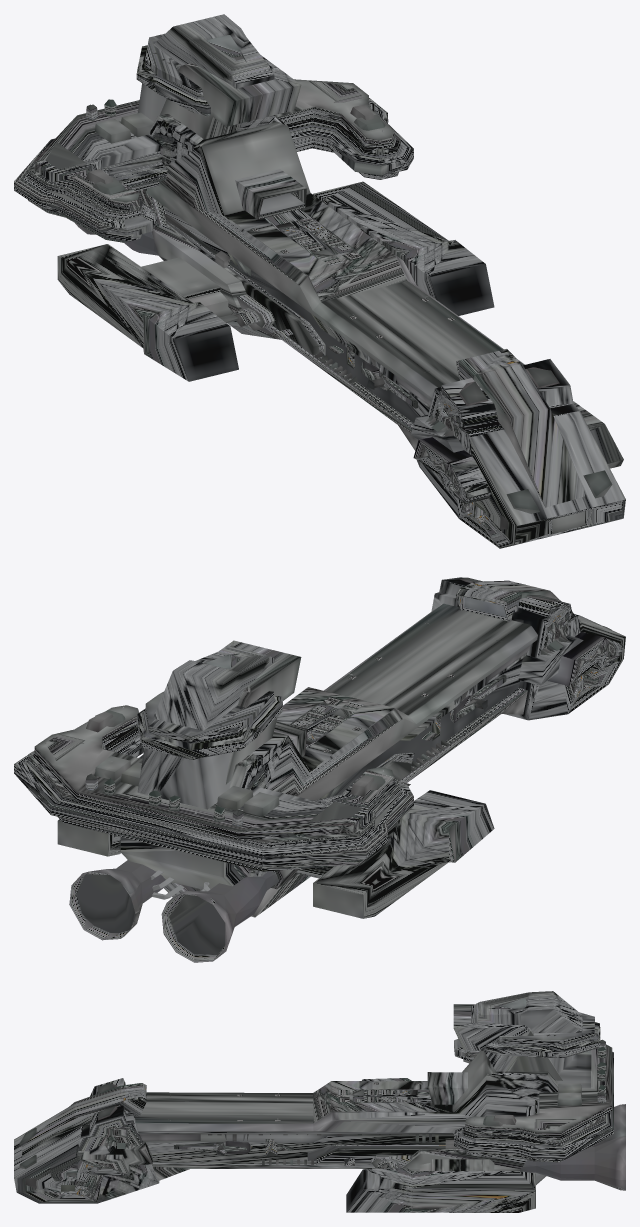
The picture shows the model from 3 angles, top to bottom: view 1: azimuth 30°, elevation 25°; view 2: azimuth 150°, elevation 25°; view 3: azimuth 270°, elevation 25°; orthographic projection. The views are drawn at different scales.
Parts seen in each view (by area): view 1: Object_2; view 2: Object_2; view 3: Object_2.
Part boxes in pixels (x1,y1,x2,y2): Object_2: [14, 14, 625, 548]; Object_2: [14, 577, 625, 962]; Object_2: [14, 991, 625, 1212].
Size of the model in its own units: 250 by 173 by 520.
Materials: 2 (2 with a texture image).
